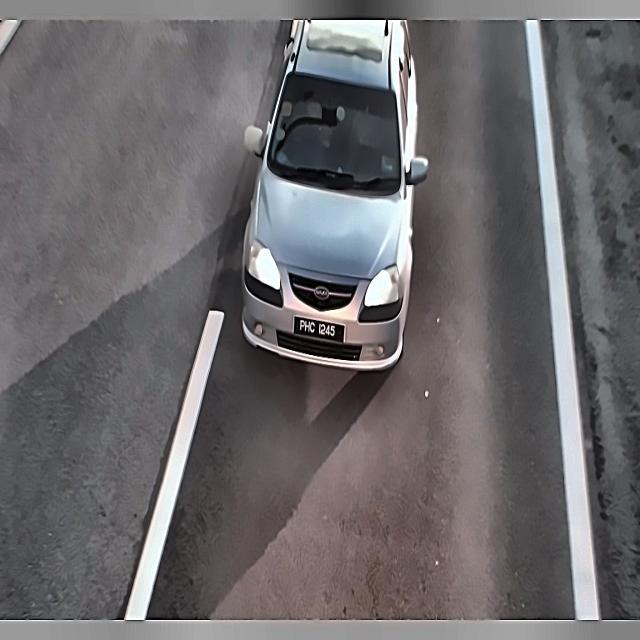car: (279, 305, 350, 353)
